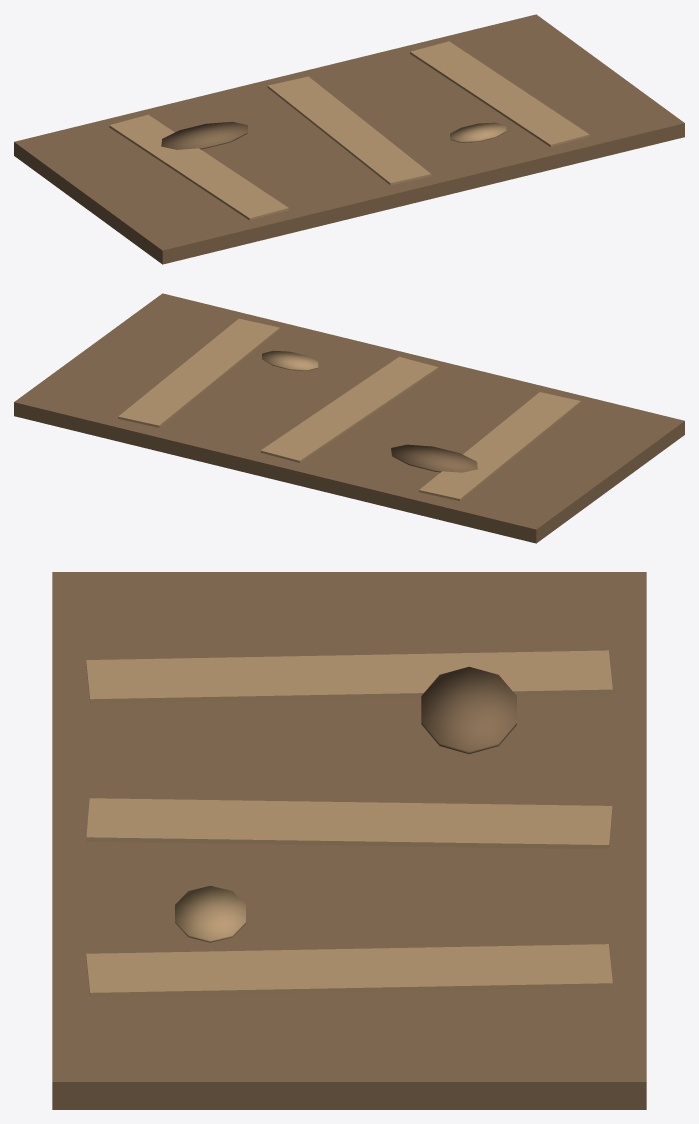
The model's file is track_mud_3lane.glb.
3 renders of one model, top to bottom at view 1: azimuth 30°, elevation 25°; view 2: azimuth 150°, elevation 25°; view 3: azimuth 270°, elevation 25°, orthographic. The views are drawn at different scales.
Visible parts, largest first — view 1: track_mud_3lane; view 2: track_mud_3lane; view 3: track_mud_3lane.
Boxes of the visible parts, bbox=[...] form: track_mud_3lane: bbox=[14, 14, 684, 264]; track_mud_3lane: bbox=[14, 293, 684, 543]; track_mud_3lane: bbox=[52, 572, 646, 1109].
Bounding box in the file's own units: 6.25 × 0.201 × 3.08.
